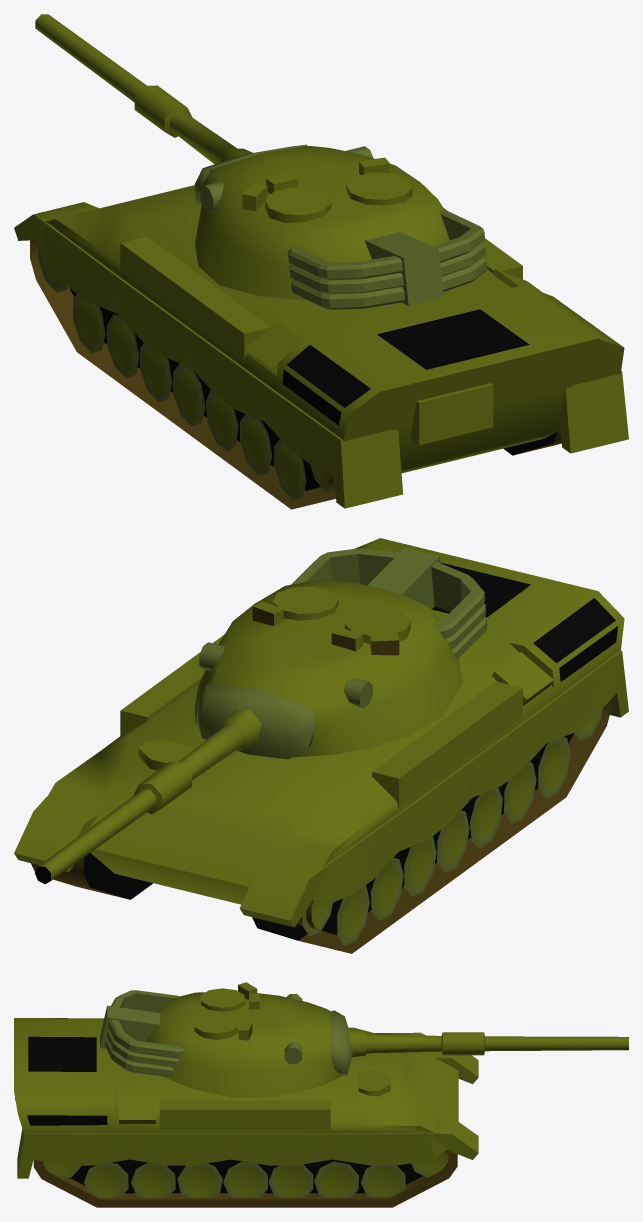
File: centinela.glb
The picture shows the model from 3 angles, top to bottom: view 1: azimuth 30°, elevation 25°; view 2: azimuth 150°, elevation 25°; view 3: azimuth 270°, elevation 25°; orthographic projection. The views are drawn at different scales.
Visible parts, largest first — view 1: hull.002, turret.002, barrel; view 2: hull.002, turret.002, barrel; view 3: hull.002, turret.002, barrel.
Boxes of the visible parts, x1,y1,x2,y2 form: hull.002: (14, 185, 628, 509); turret.002: (195, 146, 487, 309); barrel: (35, 14, 307, 204); hull.002: (14, 538, 628, 953); turret.002: (195, 547, 487, 757); barrel: (35, 684, 316, 884); hull.002: (14, 1018, 478, 1207); turret.002: (100, 982, 343, 1097); barrel: (329, 1010, 628, 1075).
Size of the model in its own units: 0.3678 by 0.2743 by 1.
